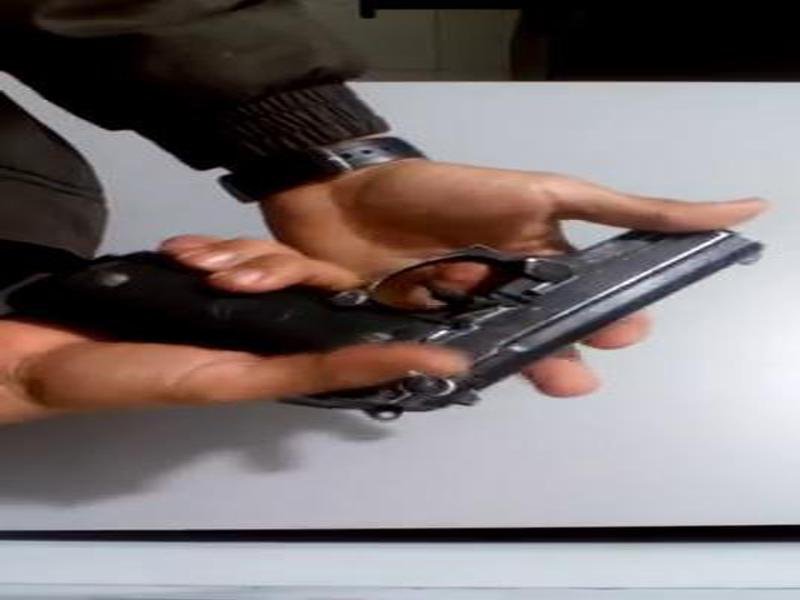Pistola: (31, 212, 778, 427)
